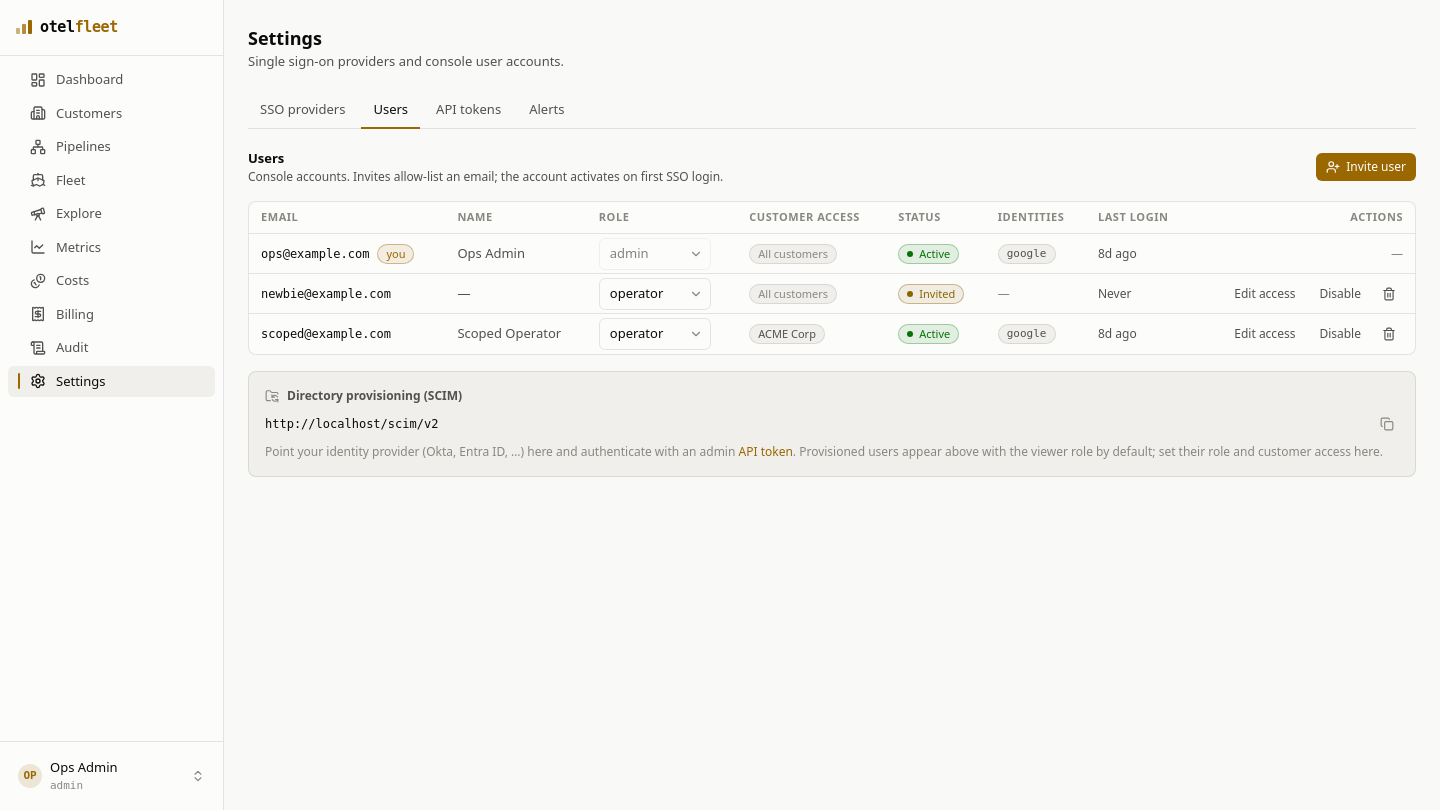
Test: invite dialog customer access › shows the customer multi-select only for non-admin roles
Click the button "Invite user": [1366, 167] box [1316, 153, 1416, 181]
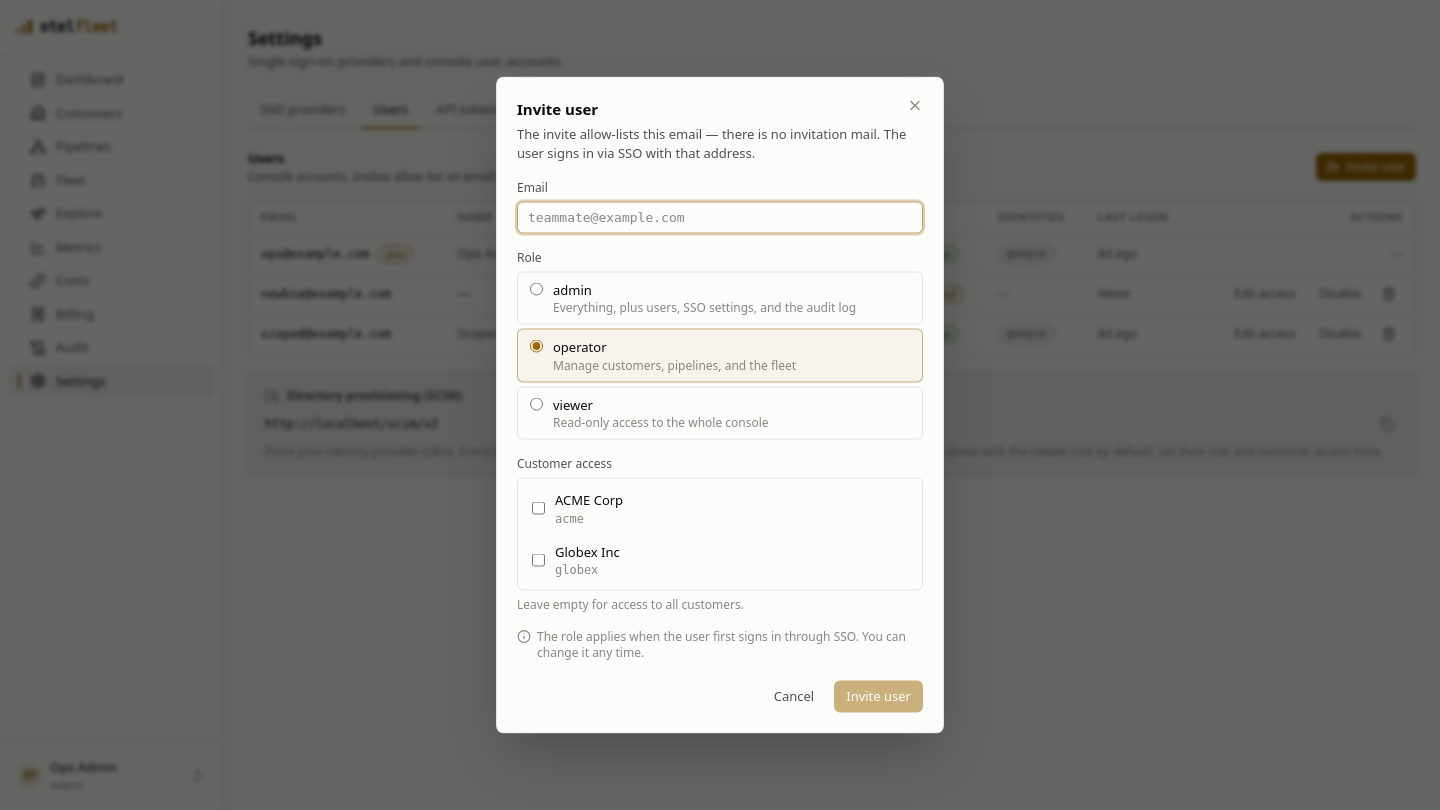
Result: the text "Customer access" is shown at [517, 456, 612, 472]
Result: the text "Leave empty for access to all customers." is shown at [517, 596, 744, 612]
Result: the checkbox labelled "ACME Corp acme" is shown at [532, 502, 545, 515]
# Switching to admin hides the picker and shows the muted note.
Click the radio button labelled "admin": [536, 288] box [530, 282, 543, 295]
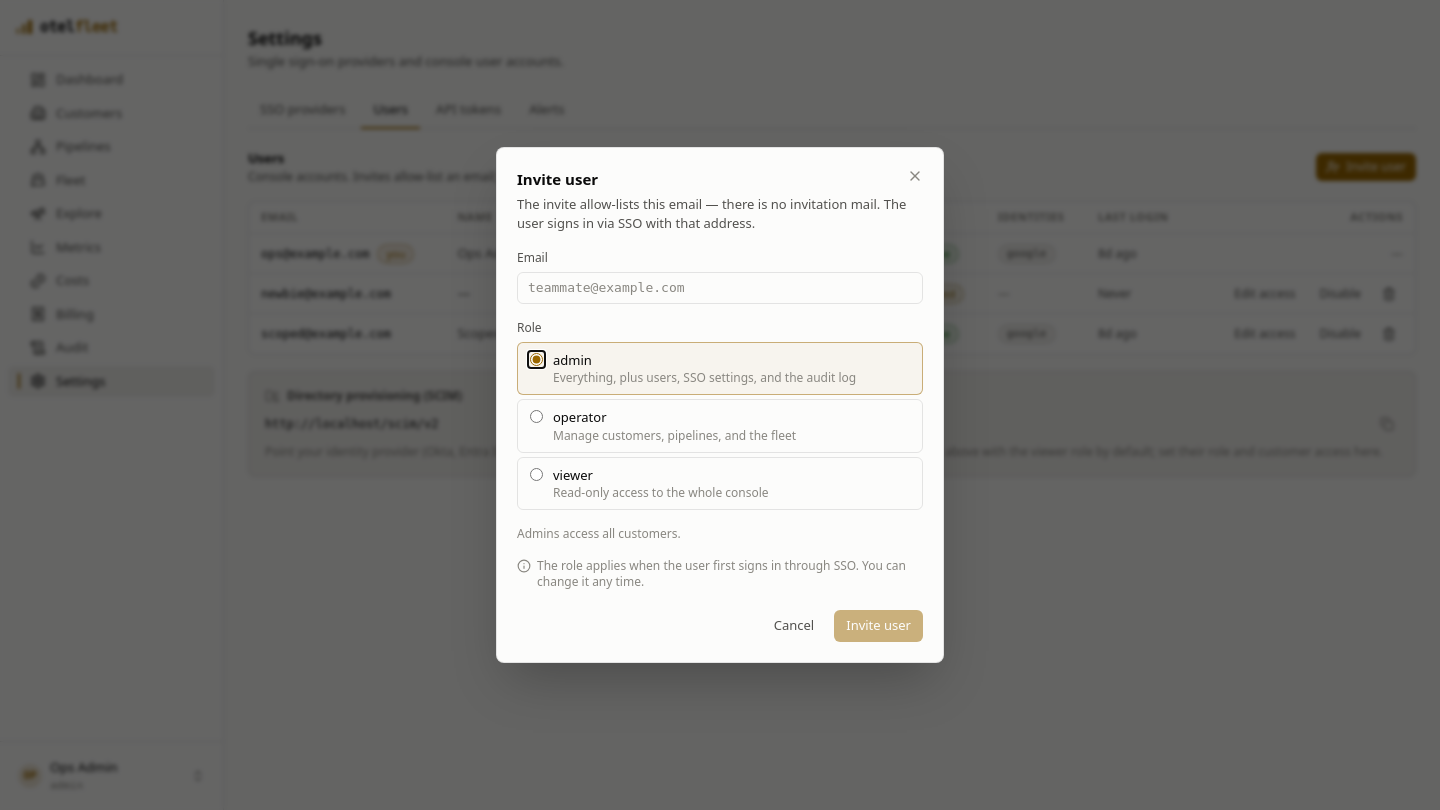
Result: the text "Leave empty for access to all customers." is gone
Result: the text "Admins access all customers." is shown at [517, 525, 681, 542]
